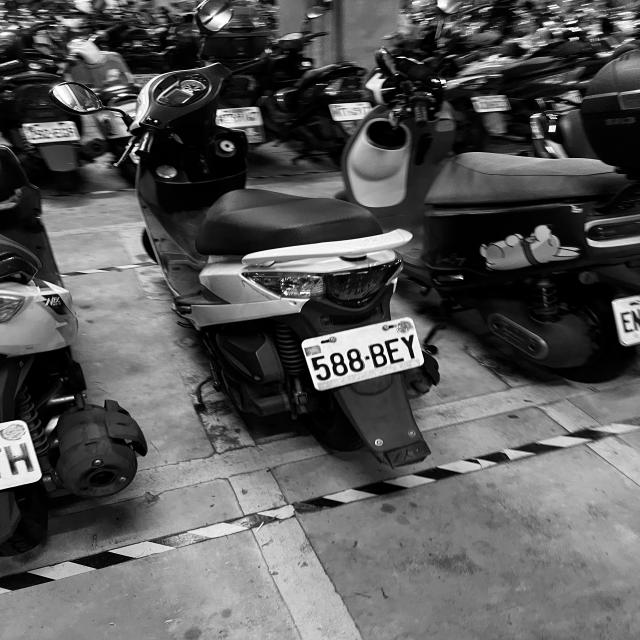-: (363, 354, 371, 362)
5: (309, 353, 333, 383)
8: (343, 346, 367, 373), (327, 351, 350, 378)
B: (367, 341, 389, 370)
E: (383, 337, 407, 366), (619, 309, 635, 333)
H: (2, 438, 40, 482)
Y: (399, 333, 418, 361)
plate: (25, 121, 80, 143)
